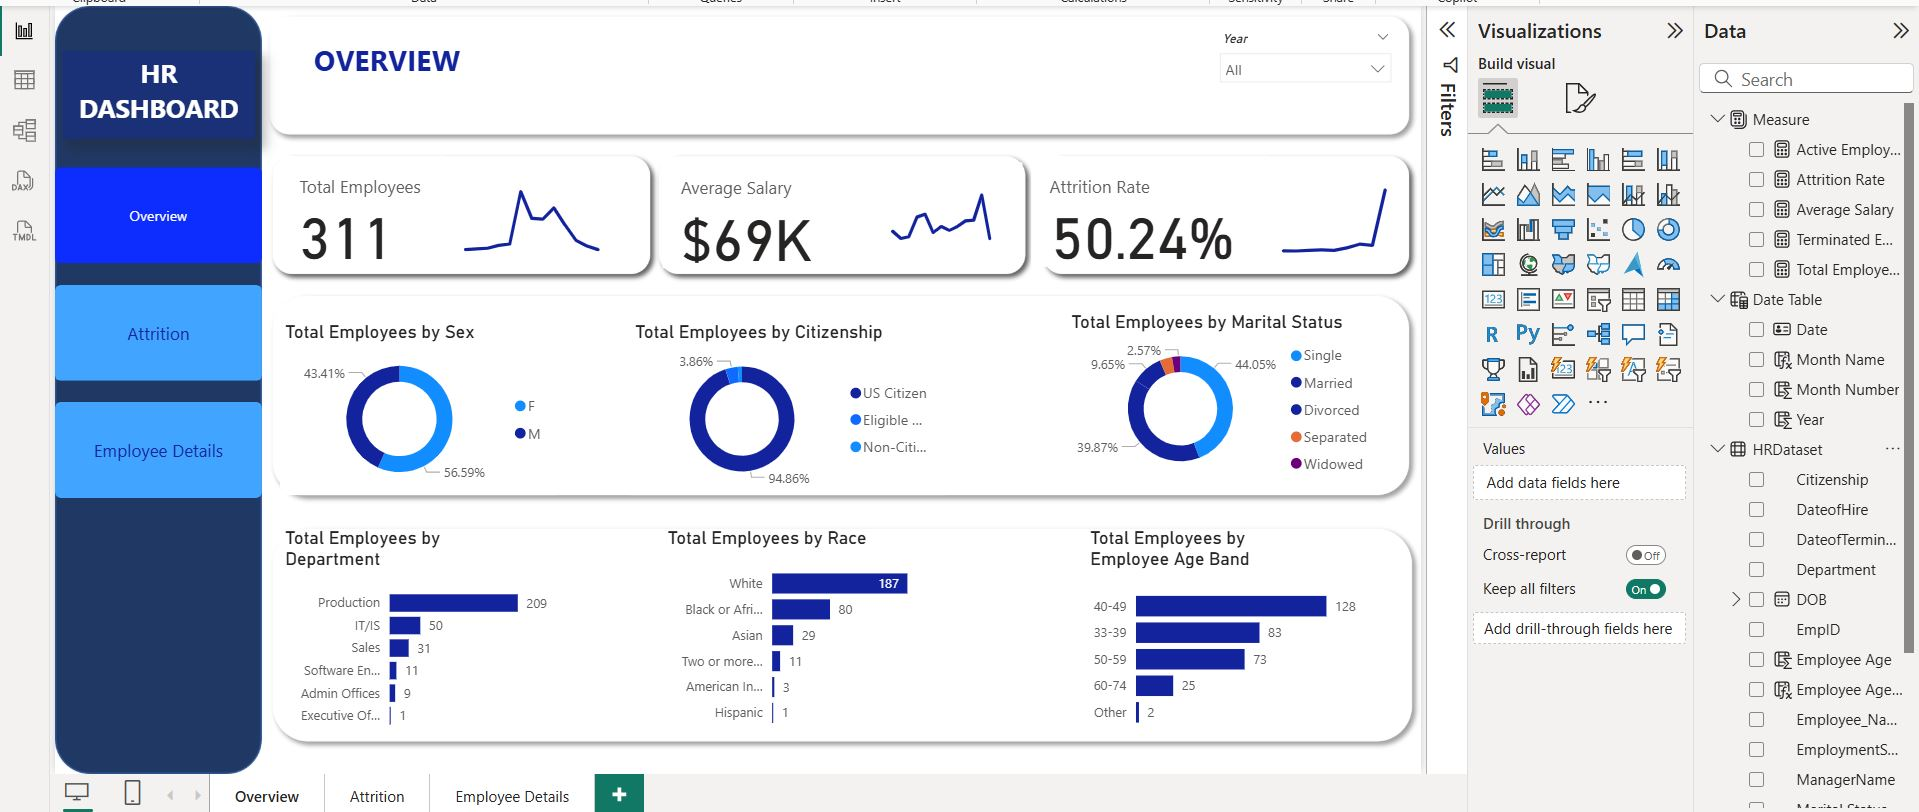

What the dashboard file says about the page in this screenshot:
{"tool":"powerbi","page":{"name":"Overview","canvas":[1280,720],"ordinal":0},"visuals":[{"type":"cardVisual","fields":{"Data":["Measure.Total Employees"]},"box":[212,141,153.7,104.3],"z":0,"group":"g2"},{"type":"cardVisual","fields":{"Data":["Measure.Attrition Rate"]},"box":[915.4,141,220.9,104.3],"z":0,"group":"g3"},{"type":"group","id":"g1","title":"Group 1","box":[569.5,141.3,337.6,104.3],"z":0},{"type":"cardVisual","fields":{"Data":["Measure.Average Salary"]},"box":[569.5,141.3,181.2,104.3],"z":0,"group":"g1"},{"type":"group","id":"g2","title":"Group 1","box":[212,141,333.4,104.3],"z":1000},{"type":"lineChart","fields":{"Y":["Measure.Average Salary"],"Category":["Date Table.Year"]},"box":[763.2,145.4,143.9,93.3],"z":1000,"group":"g1"},{"type":"lineChart","fields":{"Y":["Measure.Total Employees"],"Category":["Date Table.Year"]},"box":[360.2,149.2,185.2,86.4],"z":1000,"group":"g2"},{"type":"lineChart","fields":{"Y":["Measure.Attrition Rate"],"Category":["Date Table.Year"]},"box":[1137,151,125.4,86.4],"z":1000,"group":"g3"},{"type":"group","id":"g3","title":"Group 1","box":[915.4,141,347,104.3],"z":2000},{"type":"donutChart","fields":{"Y":["Measure.Total Employees"],"Category":["HRDataset.Sex"]},"box":[211.3,295,259.3,163.3],"z":3000},{"type":"donutChart","fields":{"Y":["Measure.Total Employees"],"Category":["HRDataset.CitizenDesc"]},"box":[539.3,295,296.4,163.3],"z":4000},{"type":"donutChart","fields":{"Y":["Measure.Total Employees"],"Category":["HRDataset.MaritalDesc"]},"box":[948.1,285.9,296.5,162.9],"z":5000},{"type":"barChart","fields":{"Y":["Measure.Total Employees"],"Category":["HRDataset.Department"]},"box":[211.3,488.5,259.3,199],"z":6000},{"type":"barChart","fields":{"Y":["Measure.Total Employees"],"Category":["HRDataset.RaceDesc"]},"box":[569.5,488.5,259.3,199],"z":7000},{"type":"barChart","fields":{"Y":["Measure.Total Employees"],"Category":["HRDataset.Employee Age Band"]},"box":[966,488.5,259.3,199],"z":8000},{"type":"slicer","fields":{"Values":["Date Table.Year"]},"box":[1081.3,19.2,181.1,90.6],"z":9000},{"type":"textbox","box":[237.4,27.4,179.8,75.5],"z":10000},{"type":"pageNavigator","box":[0,151.2,194.5,311.7],"z":11000},{"type":"textbox","box":[7,42.2,180.5,82],"z":12000}]}

Visuals, with their boxes on the page's 1280x720 design canvas (x1, y1, x2, y2). These are canvas units, not pixel positions in the 1919x812 screenshot, which may show the page scaled, cropped or inside an application window:
cardVisual - Measure.Total Employees: {"x1": 212, "y1": 141, "x2": 366, "y2": 245}
cardVisual - Measure.Attrition Rate: {"x1": 915, "y1": 141, "x2": 1136, "y2": 245}
"Group 1" group: {"x1": 570, "y1": 141, "x2": 907, "y2": 246}
cardVisual - Measure.Average Salary: {"x1": 570, "y1": 141, "x2": 751, "y2": 246}
"Group 1" group: {"x1": 212, "y1": 141, "x2": 545, "y2": 245}
lineChart - Measure.Average Salary x Date Table.Year: {"x1": 763, "y1": 145, "x2": 907, "y2": 239}
lineChart - Measure.Total Employees x Date Table.Year: {"x1": 360, "y1": 149, "x2": 545, "y2": 236}
lineChart - Measure.Attrition Rate x Date Table.Year: {"x1": 1137, "y1": 151, "x2": 1262, "y2": 237}
"Group 1" group: {"x1": 915, "y1": 141, "x2": 1262, "y2": 245}
donutChart - Measure.Total Employees x HRDataset.Sex: {"x1": 211, "y1": 295, "x2": 471, "y2": 458}
donutChart - Measure.Total Employees x HRDataset.CitizenDesc: {"x1": 539, "y1": 295, "x2": 836, "y2": 458}
donutChart - Measure.Total Employees x HRDataset.MaritalDesc: {"x1": 948, "y1": 286, "x2": 1245, "y2": 449}
barChart - Measure.Total Employees x HRDataset.Department: {"x1": 211, "y1": 488, "x2": 471, "y2": 688}
barChart - Measure.Total Employees x HRDataset.RaceDesc: {"x1": 570, "y1": 488, "x2": 829, "y2": 688}
barChart - Measure.Total Employees x HRDataset.Employee Age Band: {"x1": 966, "y1": 488, "x2": 1225, "y2": 688}
slicer - Date Table.Year: {"x1": 1081, "y1": 19, "x2": 1262, "y2": 110}
textbox: {"x1": 237, "y1": 27, "x2": 417, "y2": 103}
pageNavigator: {"x1": 0, "y1": 151, "x2": 194, "y2": 463}
textbox: {"x1": 7, "y1": 42, "x2": 188, "y2": 124}
